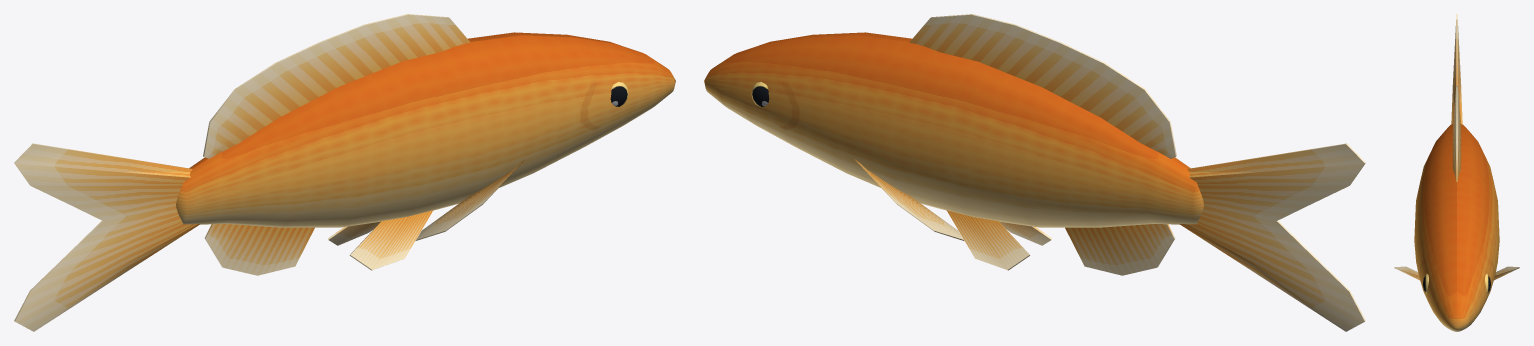
3 views of the same model, side by side, from view 1: azimuth 30°, elevation 25°; view 2: azimuth 150°, elevation 25°; view 3: azimuth 270°, elevation 25° (orthographic). The views are drawn at different scales.
Parts seen in each view (by area): view 1: Mesh_FishBody, Mesh_Fins, Mesh_TailFin; view 2: Mesh_FishBody, Mesh_Fins, Mesh_TailFin; view 3: Mesh_FishBody, Mesh_Fins, Mesh_TailFin, Mesh_Eyes.
Part boxes in pixels (bbox=[...]): Mesh_FishBody: bbox=[176, 32, 675, 227]; Mesh_Fins: bbox=[203, 14, 524, 275]; Mesh_TailFin: bbox=[14, 143, 199, 331]; Mesh_FishBody: bbox=[704, 32, 1203, 227]; Mesh_Fins: bbox=[855, 14, 1176, 275]; Mesh_TailFin: bbox=[1179, 143, 1365, 331]; Mesh_FishBody: bbox=[1414, 124, 1499, 331]; Mesh_Fins: bbox=[1394, 86, 1519, 280]; Mesh_TailFin: bbox=[1451, 14, 1462, 124]; Mesh_Eyes: bbox=[1423, 273, 1490, 293].
Bounding box in the file's own units: 0.42 × 0.14 × 0.09.
3 materials, 3 textured.
